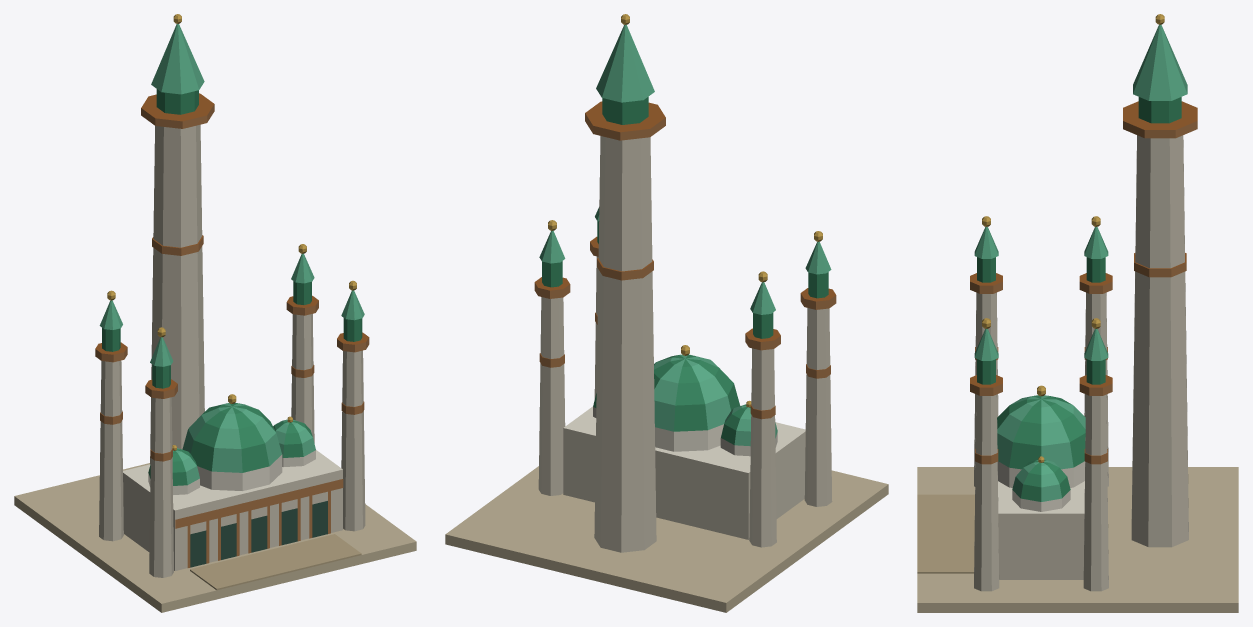
File: touba.glb
3 views of the same model, side by side, from view 1: azimuth 30°, elevation 25°; view 2: azimuth 150°, elevation 25°; view 3: azimuth 270°, elevation 25° (orthographic). The views are drawn at different scales.
Visible parts, largest first — view 1: touba; view 2: touba; view 3: touba.
Boxes of the visible parts, left/top/right/bottom form: touba: left=14, top=14, right=416, bottom=612; touba: left=445, top=14, right=888, bottom=612; touba: left=917, top=14, right=1238, bottom=612.
Bounding box in the file's own units: 1.76 × 3.2 × 1.76.
